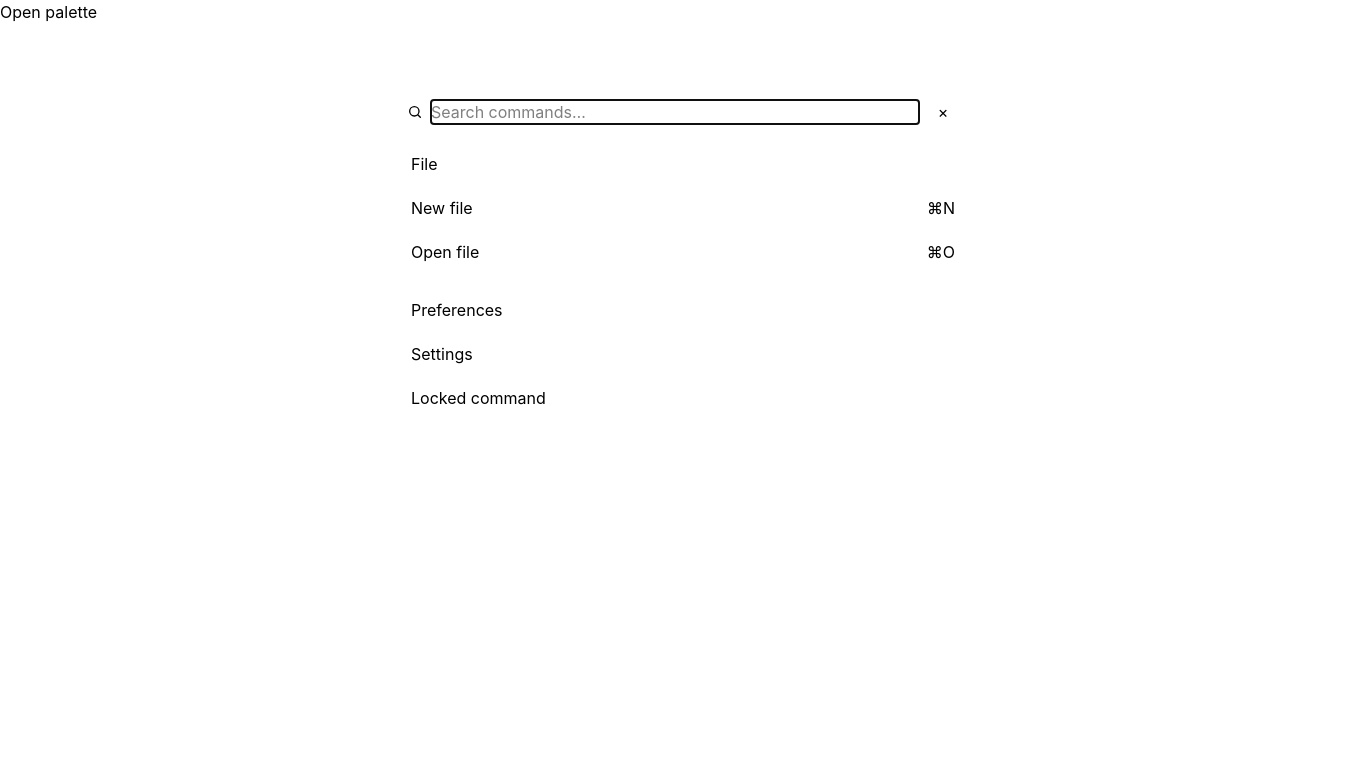
Test: CommandPalette › shows the empty message when nothing matches
The width and height of the screenshot is (1366, 768).
Type "zzzz" into the dropdown. click: (675, 112)
box: [431,100,919,124]
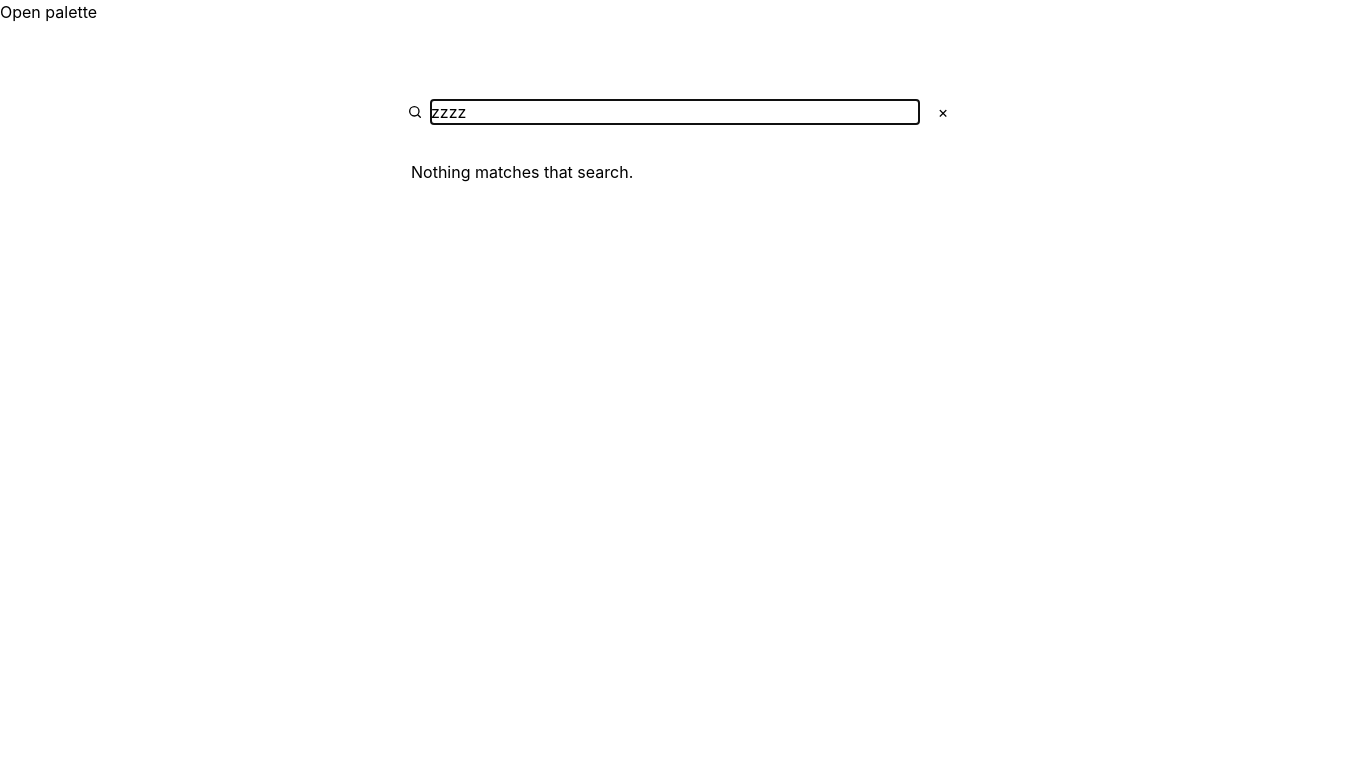
Check: the text "Nothing matches that search." is shown, box [411,162,633,182]
Check: the dropdown is collapsed, box [431,100,919,124]
